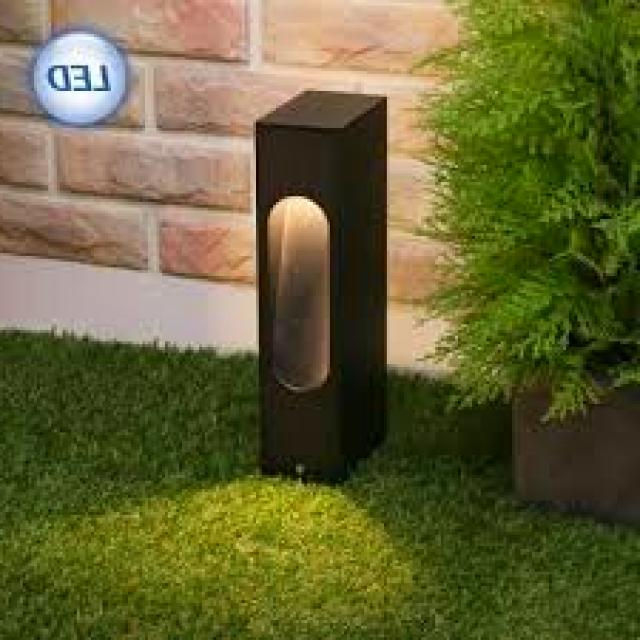bollard: (242, 80, 406, 502)
